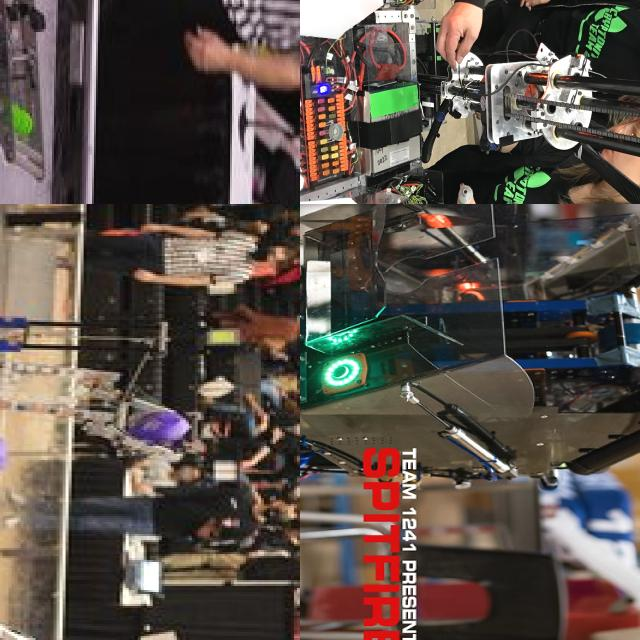FRC-Robots: (300, 204, 640, 597), (355, 0, 640, 204), (0, 262, 258, 472), (0, 516, 264, 640), (0, 0, 300, 76)
